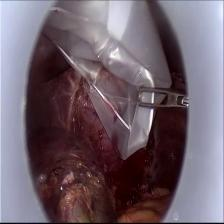Grasper: (136, 85, 190, 116)
Specimen Bag: (40, 0, 174, 160)
